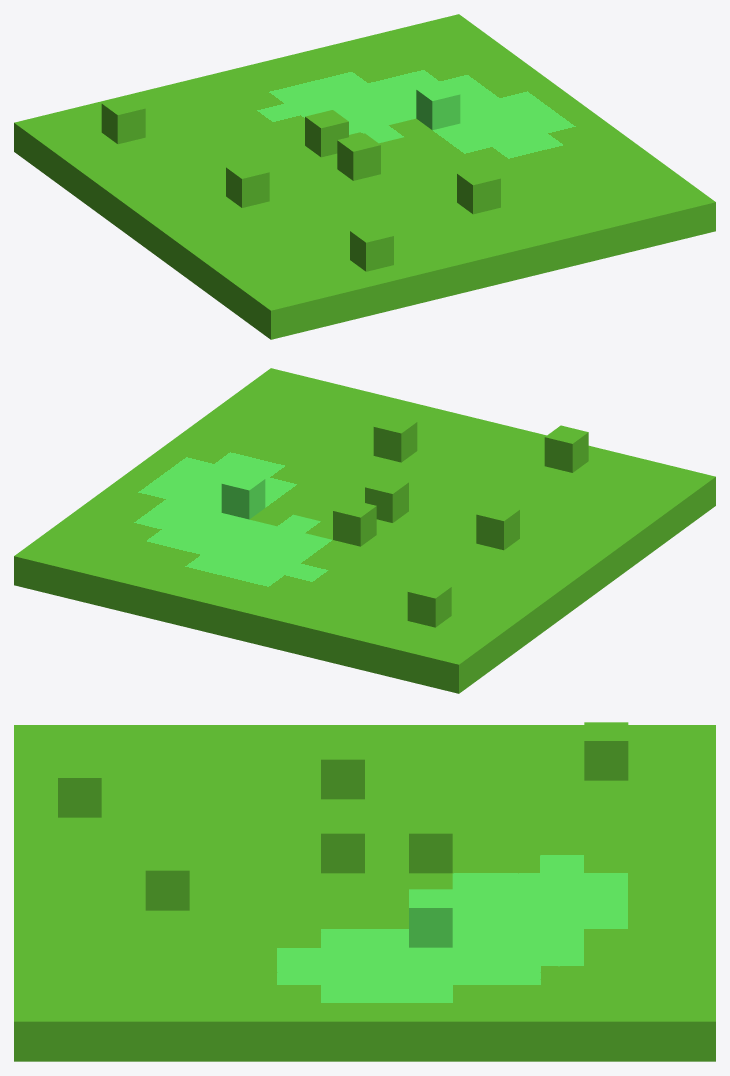
Rendered from env_grass2h.fbx.
3 renders of one model, top to bottom at view 1: azimuth 30°, elevation 25°; view 2: azimuth 150°, elevation 25°; view 3: azimuth 270°, elevation 25°, orthographic. The views are drawn at different scales.
Visible parts, largest first — view 1: env_grass2h; view 2: env_grass2h; view 3: env_grass2h.
Part boxes in pixels (x1=…): env_grass2h: x1=14, y1=14, x2=715, y2=339; env_grass2h: x1=14, y1=368, x2=715, y2=693; env_grass2h: x1=14, y1=722, x2=715, y2=1061.
Bounding box in the file's own units: 1.6 × 1.6 × 0.2.
Materials: 1 (1 with a texture image).
